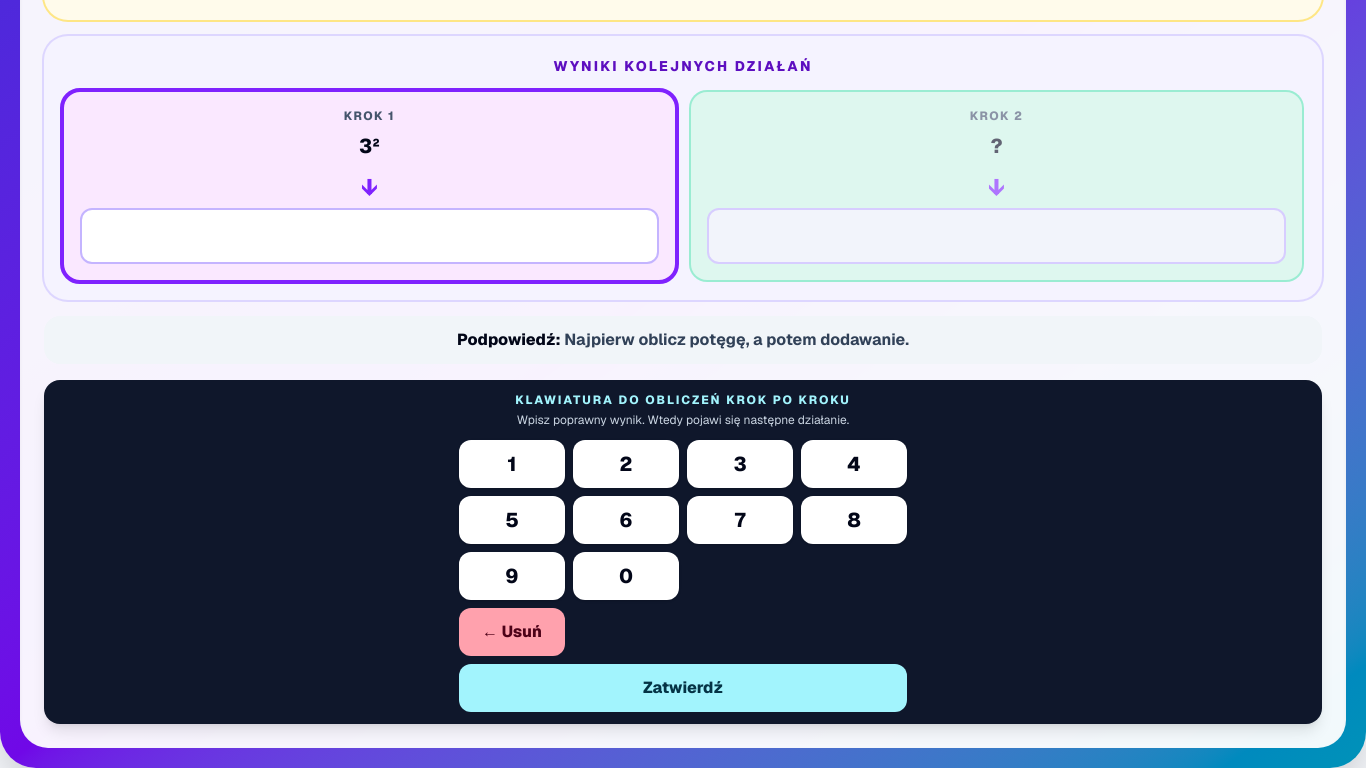
Test: Grade4OrderOfOperationsLessonLab › odsłania kolejne działania dopiero po poprawnych wynikach w zadaniu 1
(page scrolled)
Check: the text "9 + 4" is not shown
Click the button "9": (512, 576) x1=459 y1=552 x2=565 y2=600
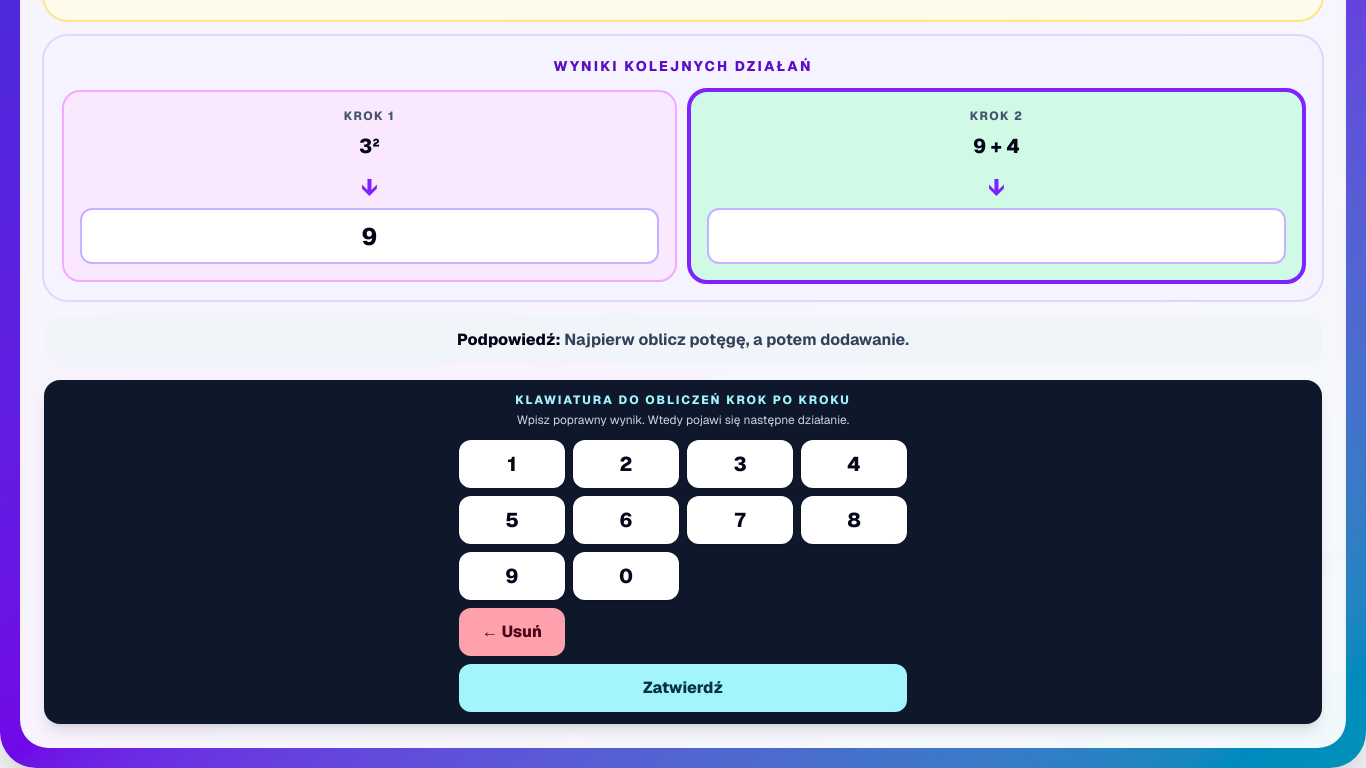
Check: the text "9 + 4" is shown, box x1=973 y1=133 x2=1020 y2=159
